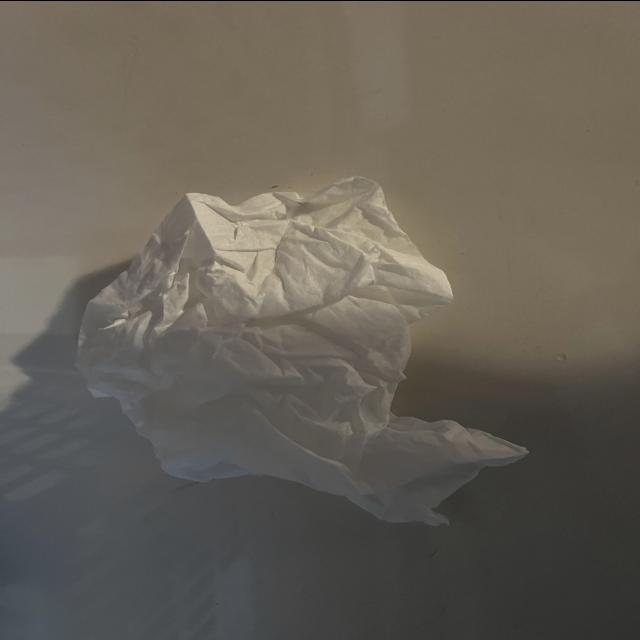Paper: (74, 166, 508, 528)
